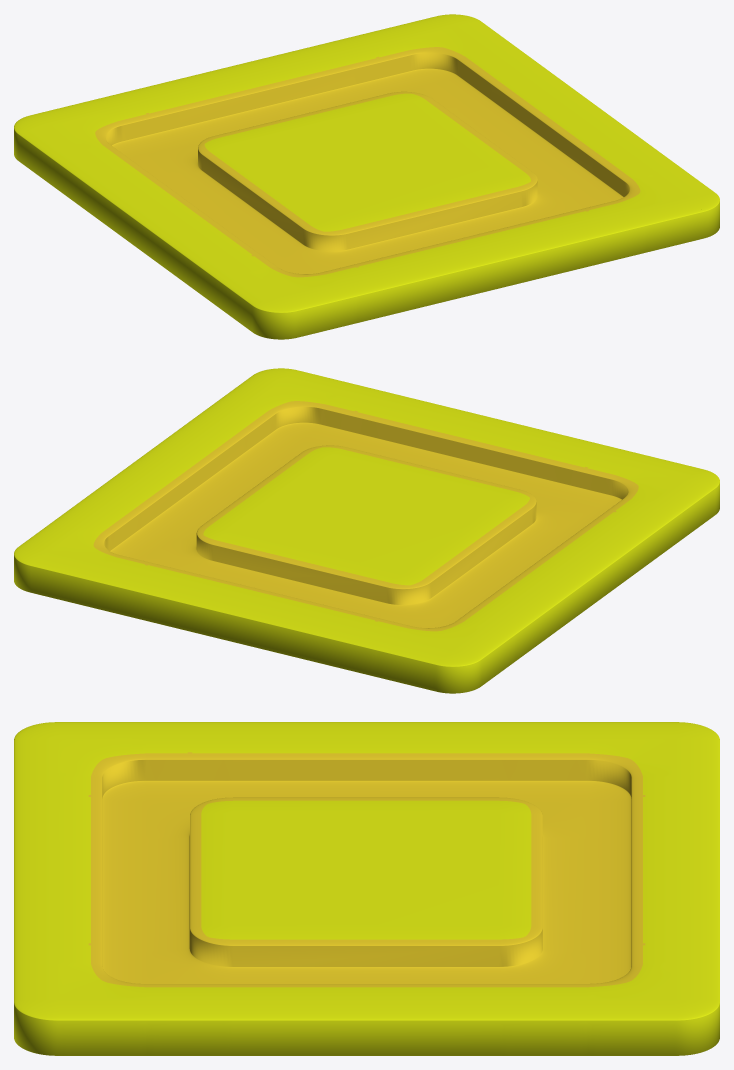
Rendered from plataforma cuadrada.fbx.
The picture shows the model from 3 angles, top to bottom: view 1: azimuth 30°, elevation 25°; view 2: azimuth 150°, elevation 25°; view 3: azimuth 270°, elevation 25°; orthographic projection. The views are drawn at different scales.
Visible parts, largest first — view 1: Cube.001; view 2: Cube.001; view 3: Cube.001.
Boxes of the visible parts, x1,y1,x2,y2 form: Cube.001: (14, 14, 719, 339); Cube.001: (14, 368, 719, 693); Cube.001: (14, 722, 719, 1055).
Size of the model in its own units: 800 by 50 by 800.
